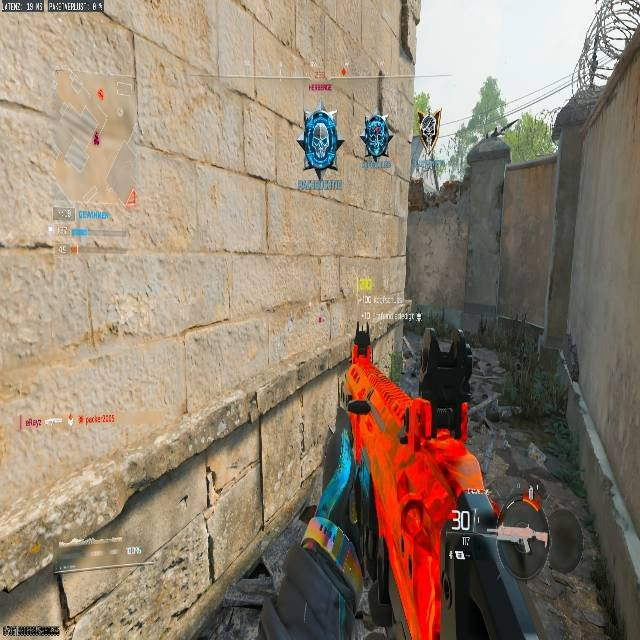player: (295, 109, 342, 172)
